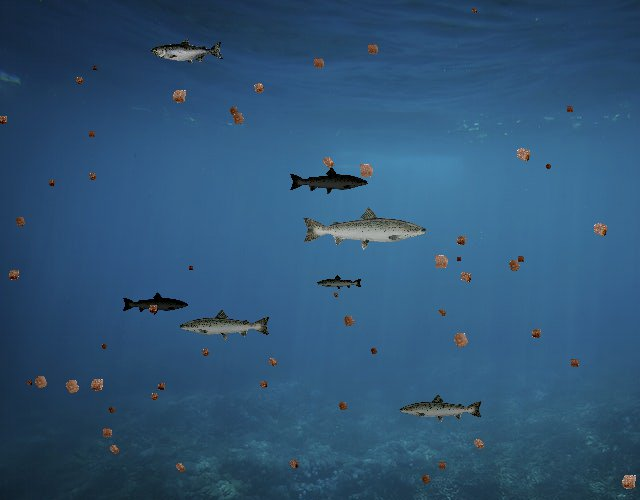Fish: (300, 205, 429, 251), (178, 308, 272, 342), (398, 393, 484, 424), (289, 166, 370, 196), (151, 38, 224, 65), (122, 292, 190, 316), (317, 274, 364, 291)
Pellet: (165, 83, 193, 111), (614, 466, 640, 496), (316, 150, 340, 174), (226, 107, 250, 131), (247, 77, 270, 100), (10, 211, 31, 232), (84, 169, 100, 185), (542, 161, 555, 174), (23, 376, 35, 388)
